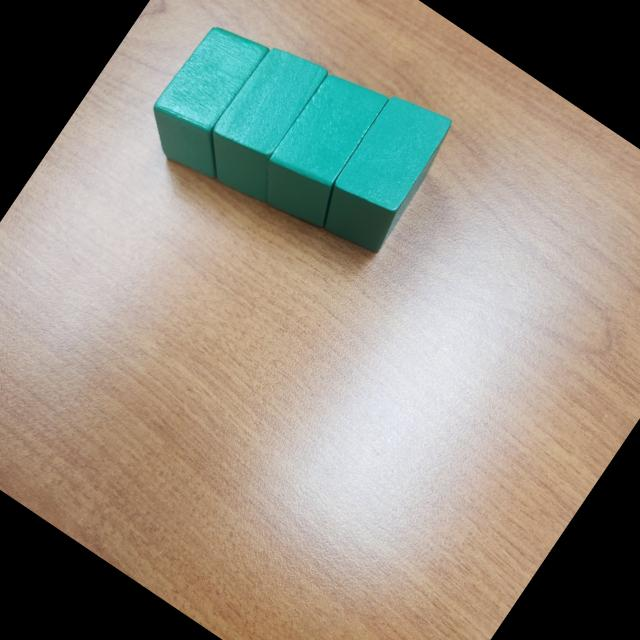green: (132, 11, 293, 188), (247, 60, 405, 238), (307, 84, 463, 263), (188, 36, 346, 212)
